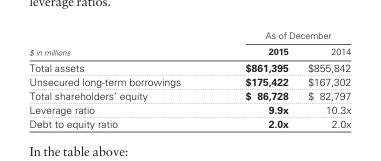table: (28, 29, 350, 130)
table column: (28, 29, 212, 130), (212, 29, 297, 130), (297, 29, 350, 130)
table column header: (28, 29, 350, 58)
table row: (28, 42, 350, 58), (28, 58, 350, 74), (28, 74, 350, 88), (28, 88, 350, 102), (28, 102, 350, 116), (28, 116, 350, 130), (28, 29, 350, 42)
table spanning cell: (28, 29, 212, 58), (212, 29, 350, 42)
